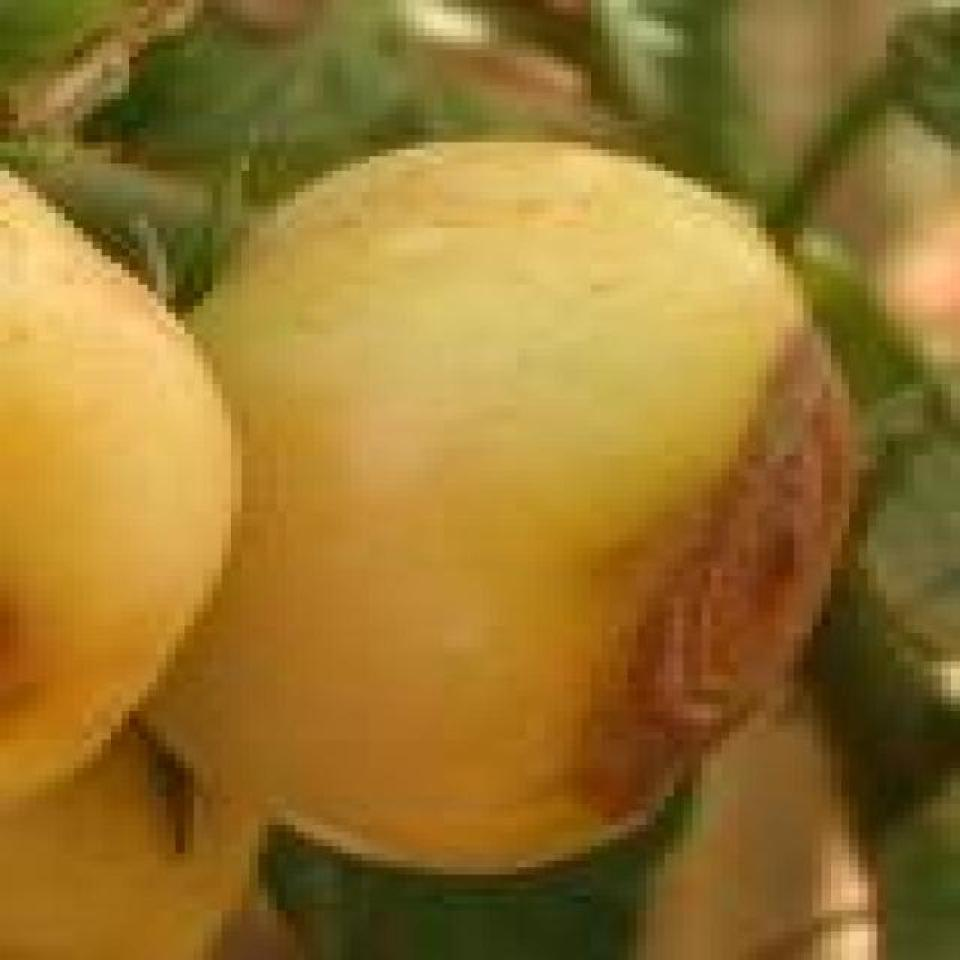Blossom_end_rot: (586, 302, 854, 808)
